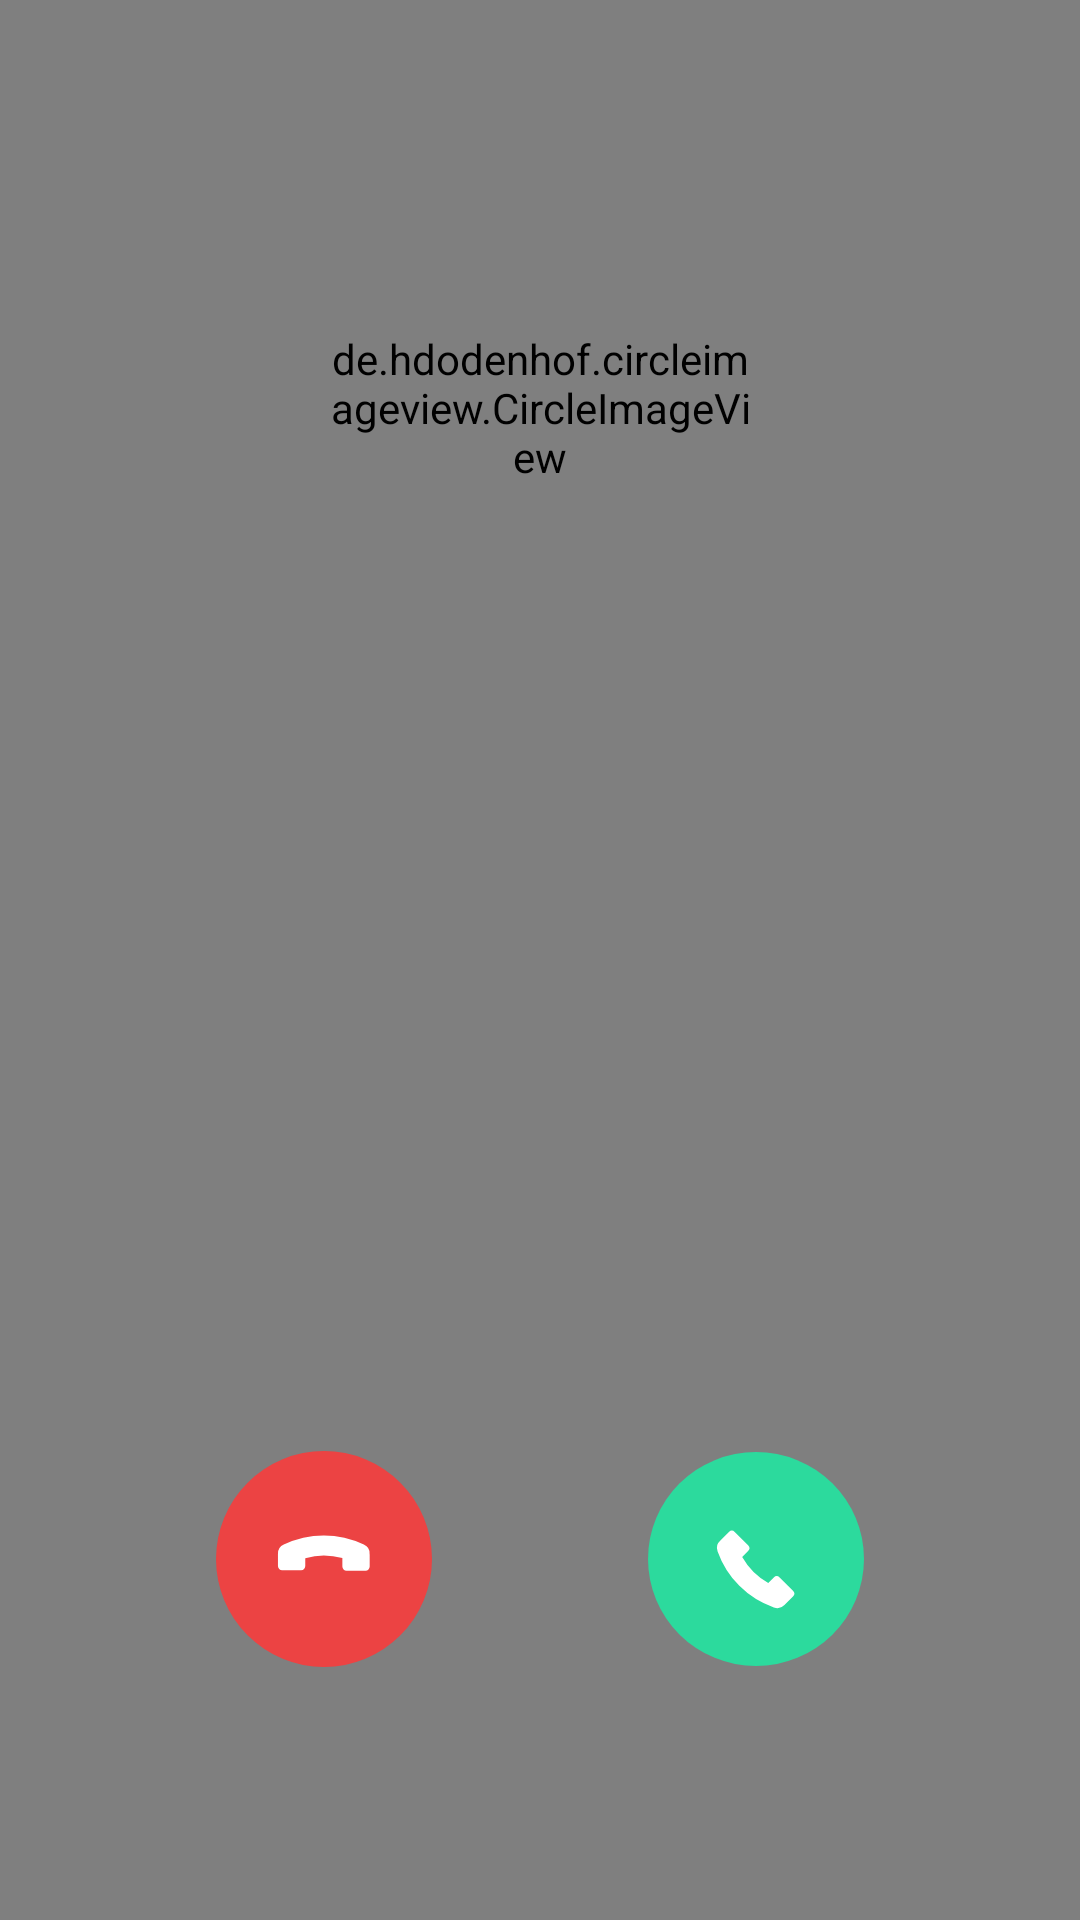

Icon click points for this 1080 × 1920 phone screenshot, format point (x, y):
call: point (756, 1559)
cancle: point (324, 1559)
